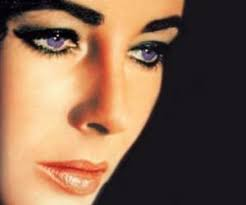e.other: (44, 33, 60, 49)
